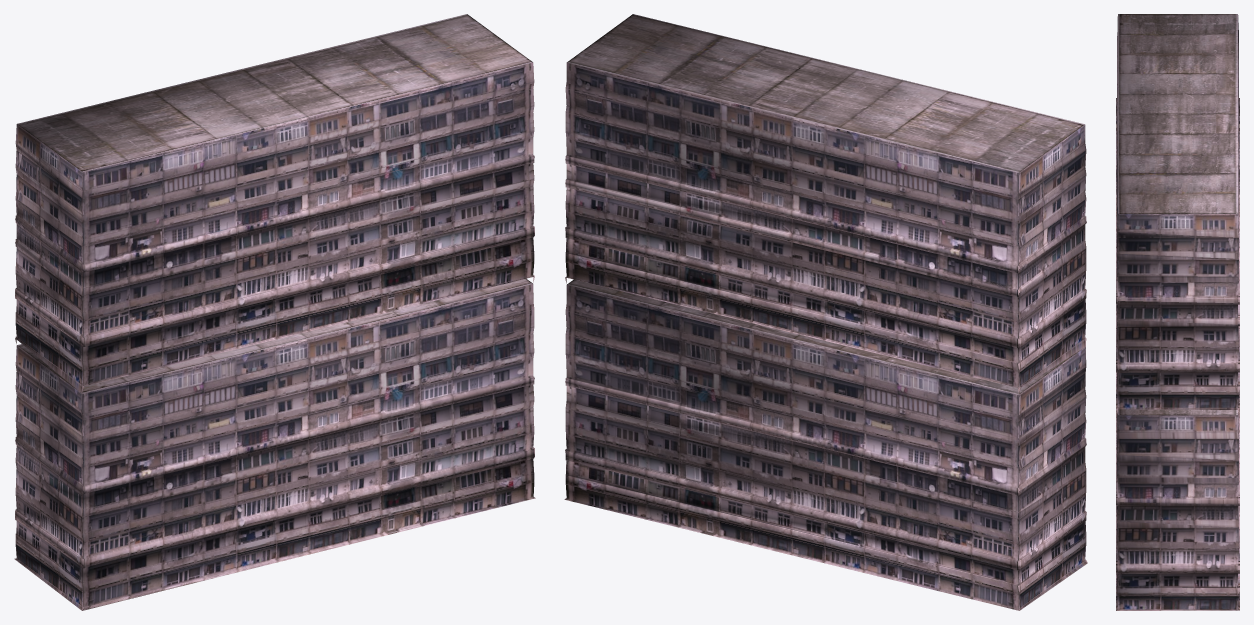
File: building4Low.obj
The picture shows the model from 3 angles, left to right: view 1: azimuth 30°, elevation 25°; view 2: azimuth 150°, elevation 25°; view 3: azimuth 270°, elevation 25°; orthographic projection. The views are drawn at different scales.
Bounding box in the file's own units: 53.06 × 48.9 × 13.79.
1 material, 1 textured.
